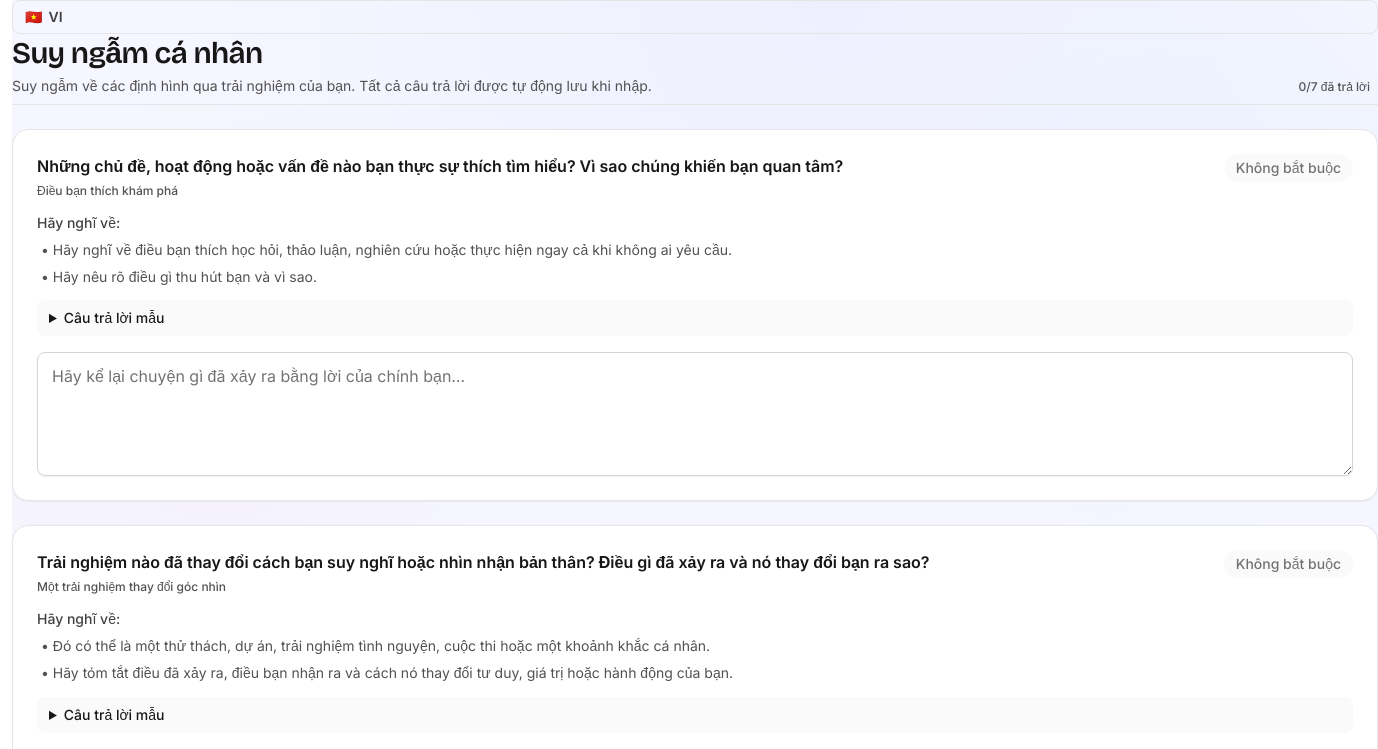
Test: PersonalReflectionForm › switches the dictionary-backed reflection copy back to English
The width and height of the screenshot is (1378, 749).
Check: the text "Điều bạn thích khám phá" is shown, box [37,183,178,198]
Click the link with aria-label "Chuyển sang Tiếng Anh": (34, 16) [12,0,1377,34]
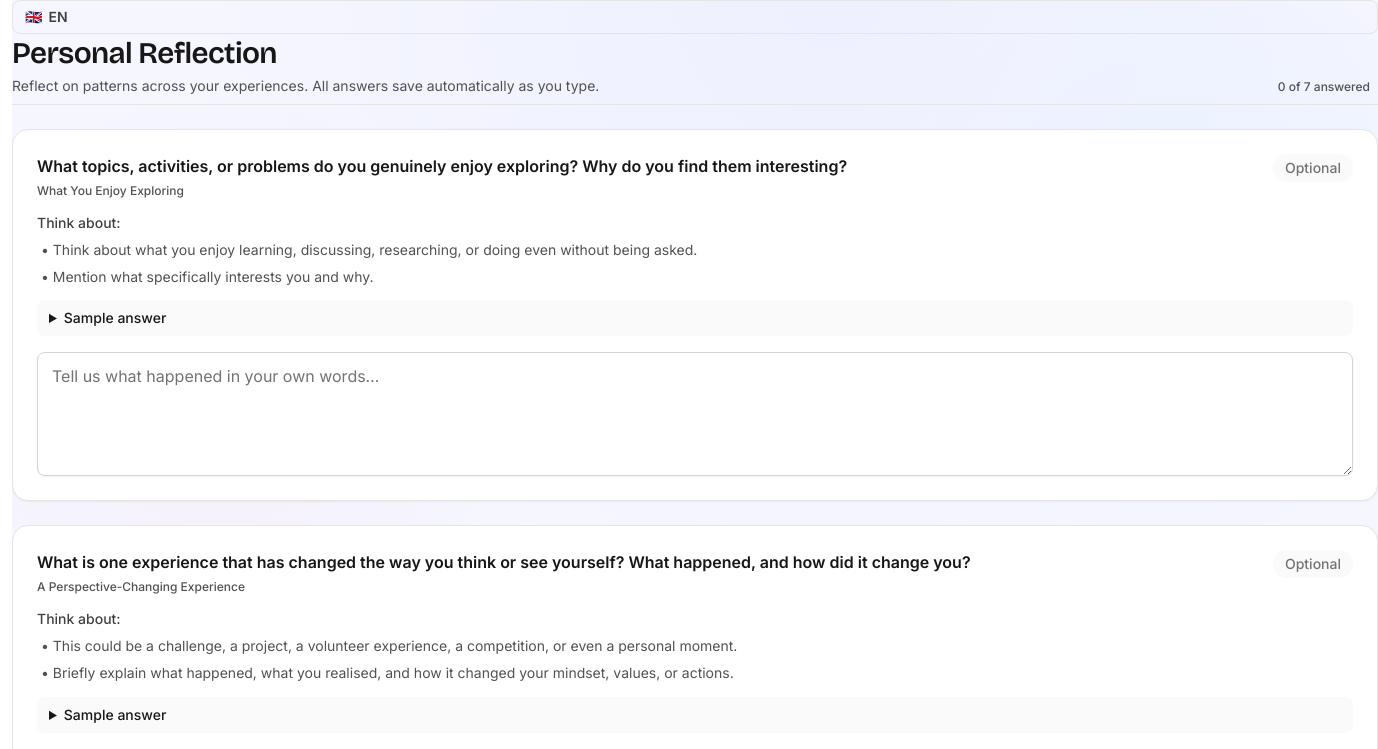
Check: the text "What You Enjoy Exploring" is shown, box [37,183,184,198]
